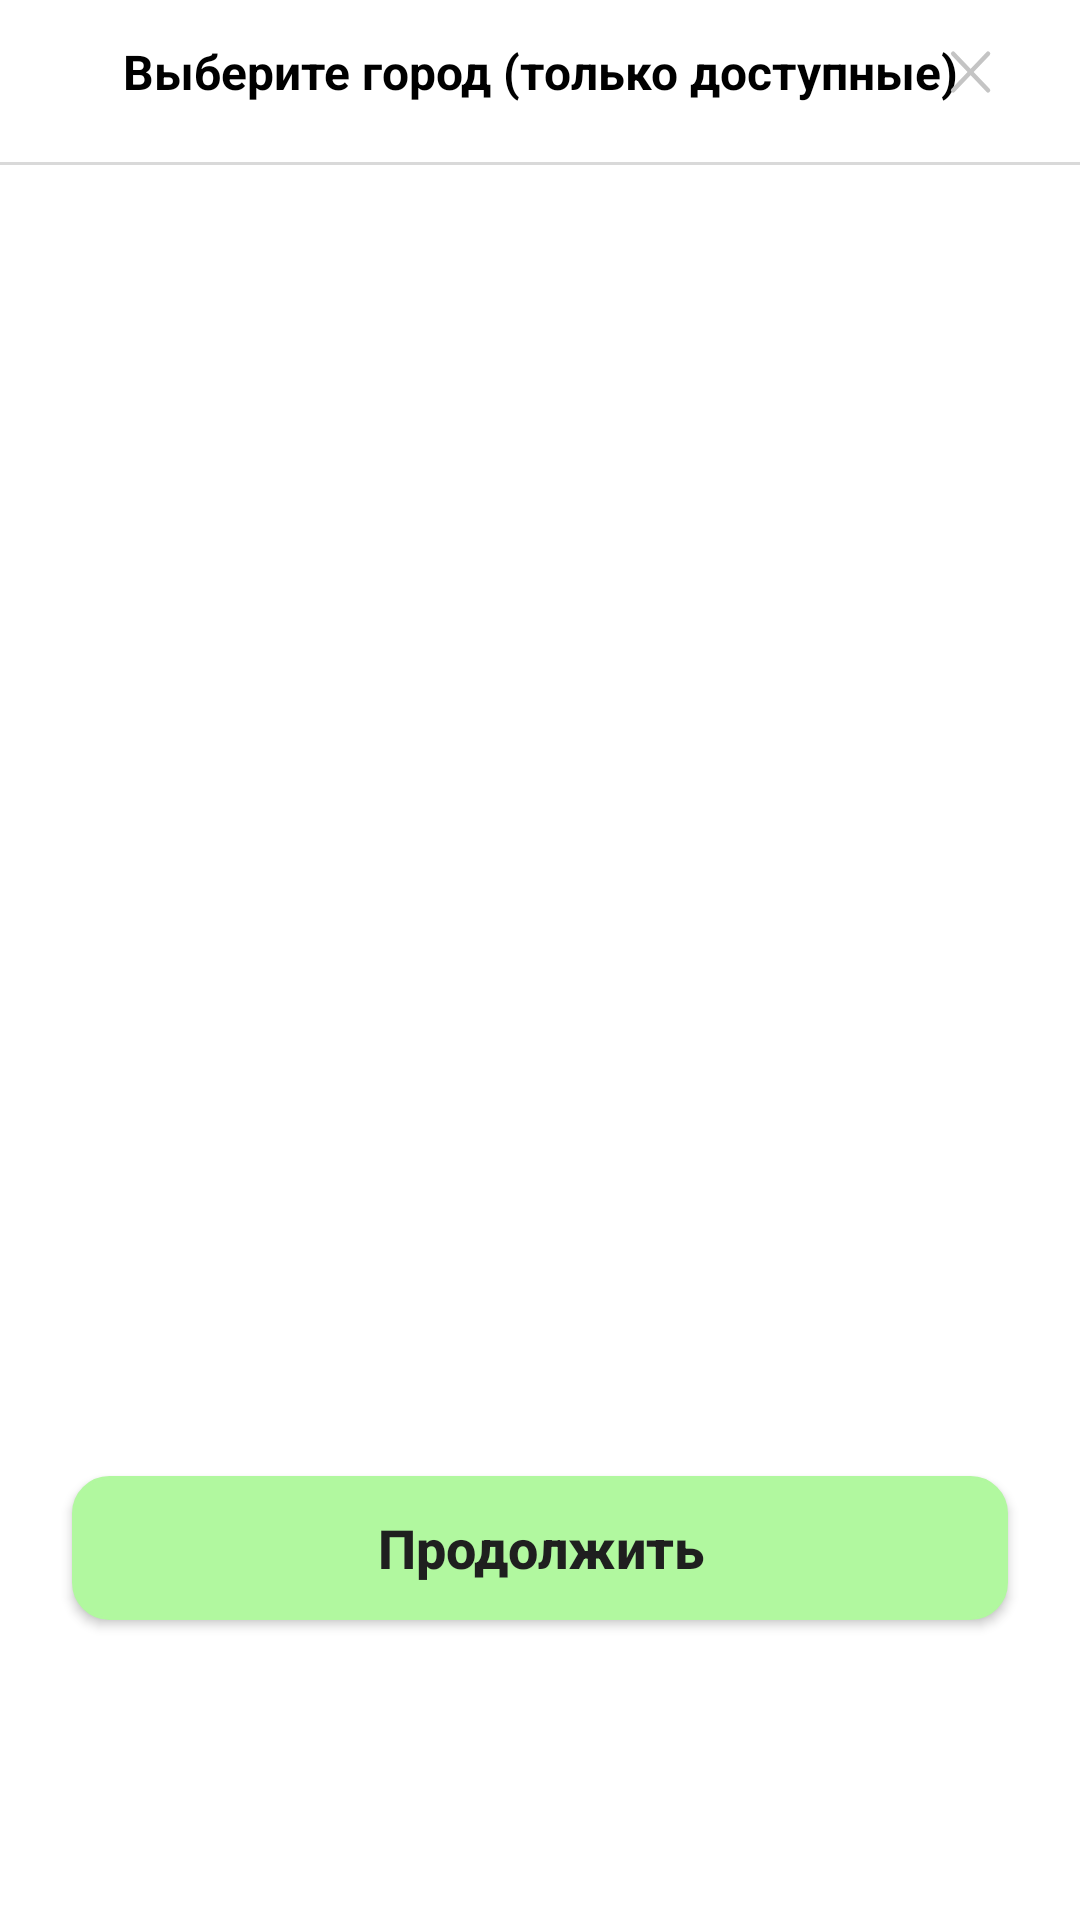

Named icons in this screenshot (1080px x 1920px) and their bounding boxes, BBox(x1, y1, x2, y2):
close: BBox(942, 51, 990, 101)
